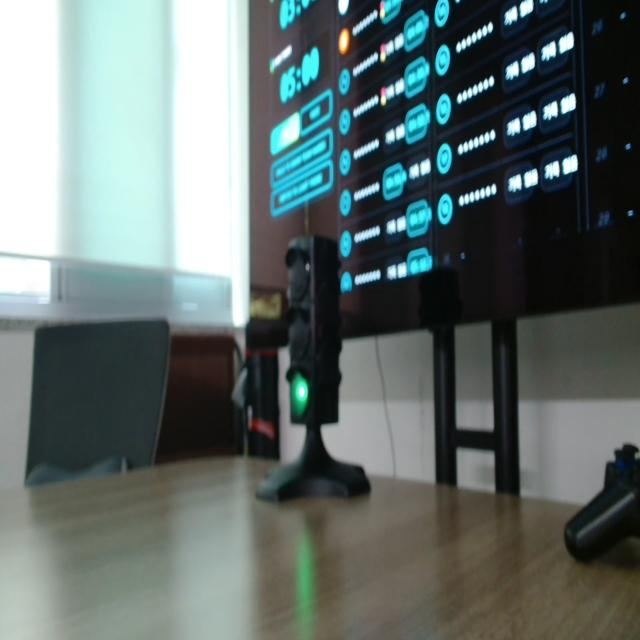green_light: (291, 373, 308, 417)
